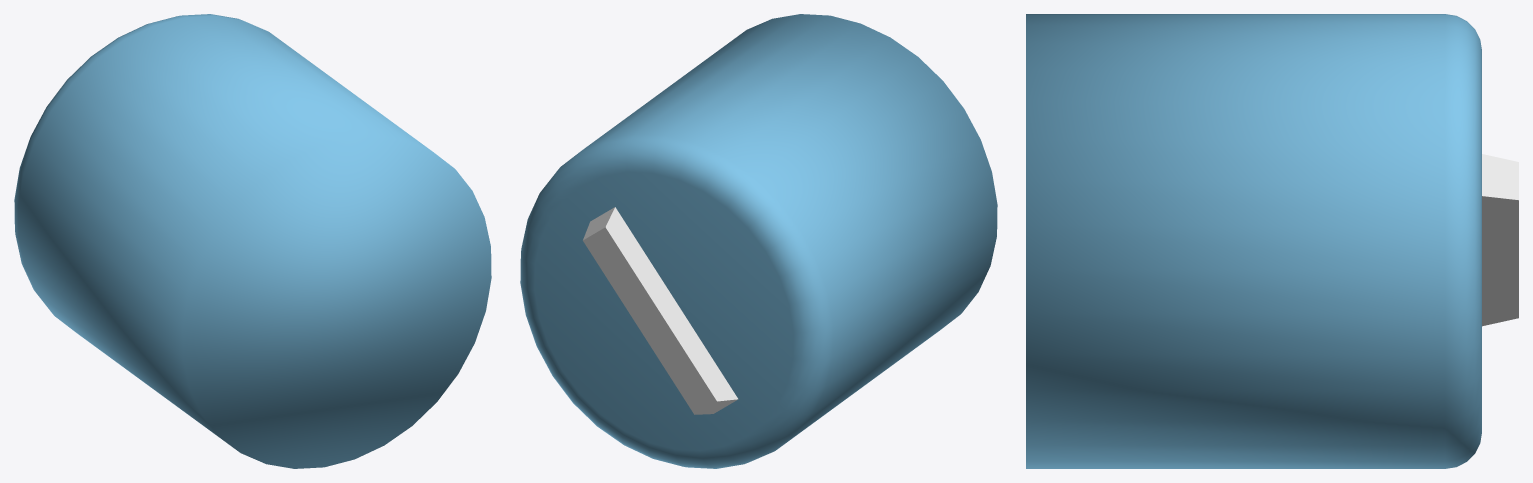
Rendered from radio part 1.fbx.
3 renders of one model, left to right at view 1: azimuth 30°, elevation 25°; view 2: azimuth 150°, elevation 25°; view 3: azimuth 270°, elevation 25°, orthographic. The views are drawn at different scales.
Visible parts, largest first — view 1: Cylinder; view 2: Cylinder; view 3: Cylinder.
Boxes of the visible parts, <box> form: Cylinder: <box>14,14,491,468</box>; Cylinder: <box>520,14,997,468</box>; Cylinder: <box>1026,14,1518,468</box>.
Bounding box in the file's own units: 2.91 × 2.91 × 3.15.
